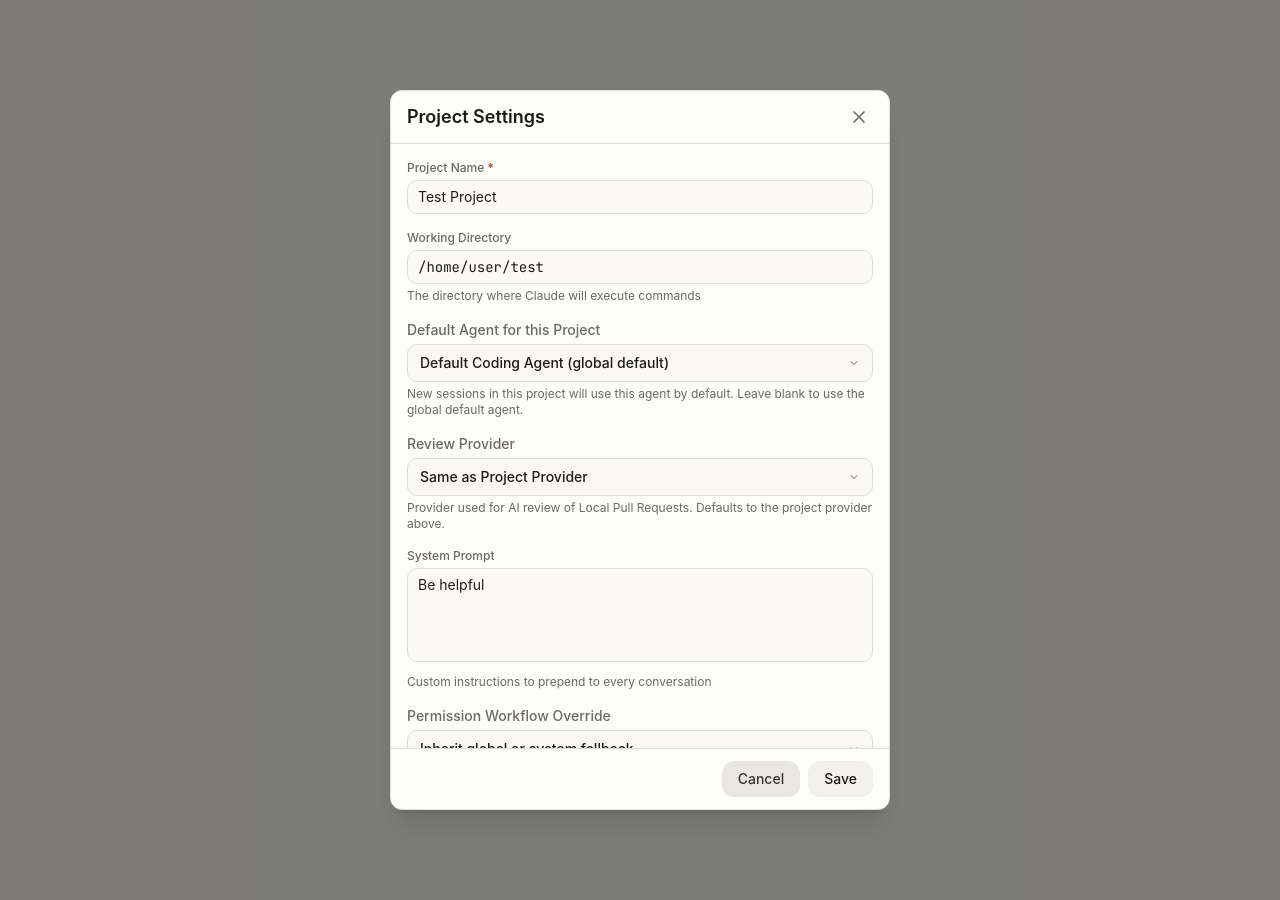
Test: ProjectSettings › lists agent profiles in the Default Agent picker
Click the button "Default Coding Agent (global default)": (640, 363) top-left (407, 344), bottom-right (873, 382)
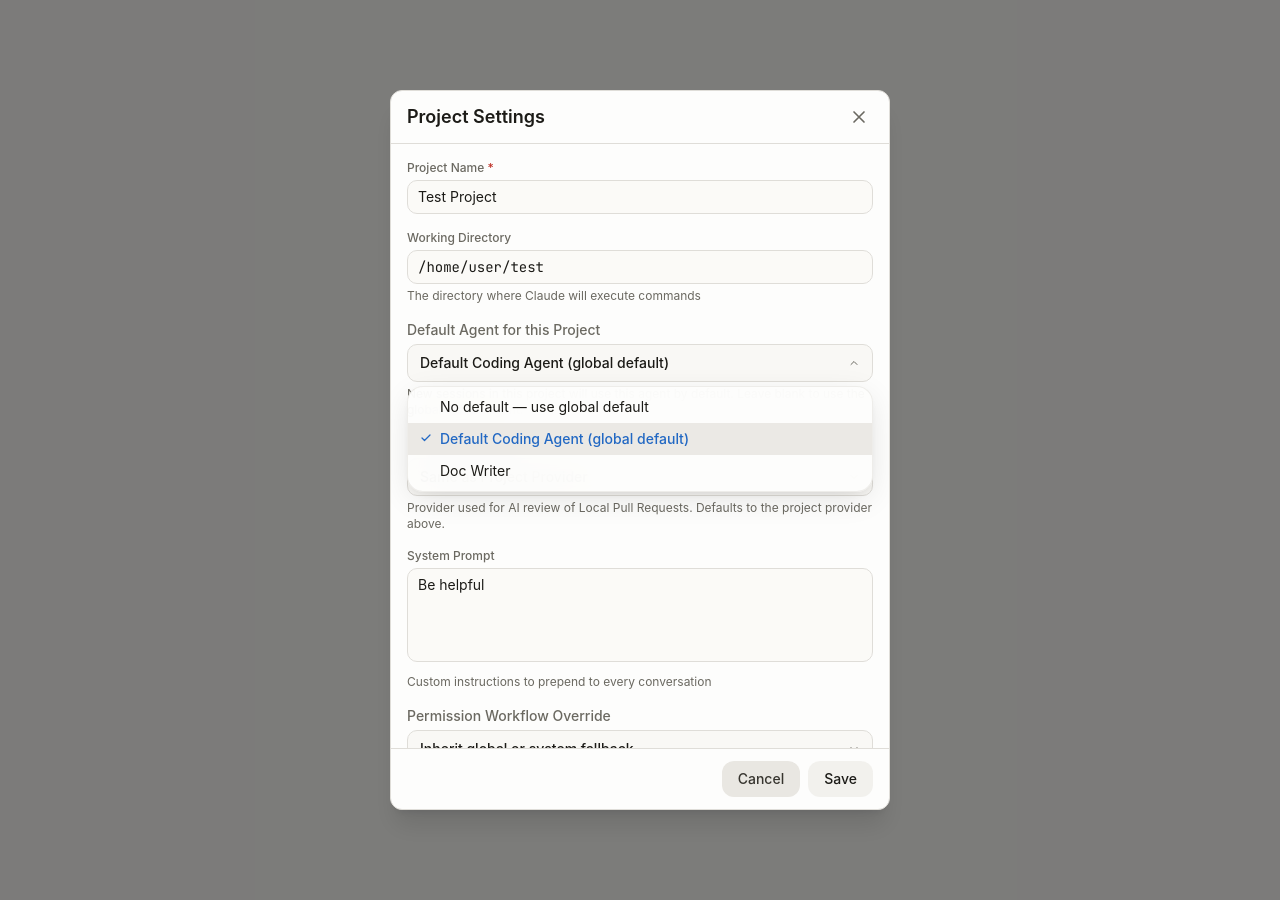
expect the option "No default — use global default" is shown: met, box top-left (408, 391), bottom-right (872, 423)
expect the option "Default Coding Agent (global default)" is shown: met, box top-left (408, 423), bottom-right (872, 455)
expect the option "Doc Writer" is shown: met, box top-left (408, 455), bottom-right (872, 487)
